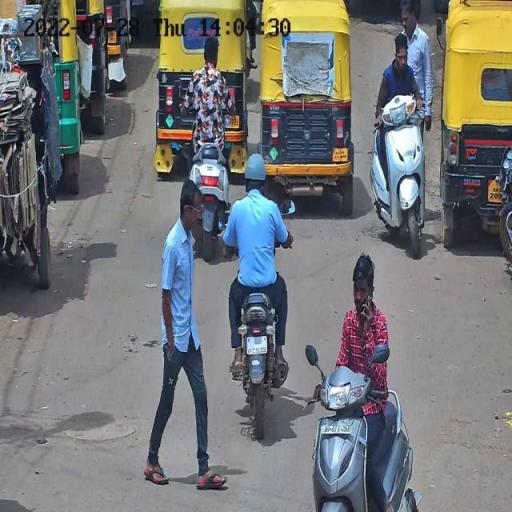using mobile: (348, 277, 377, 323)
